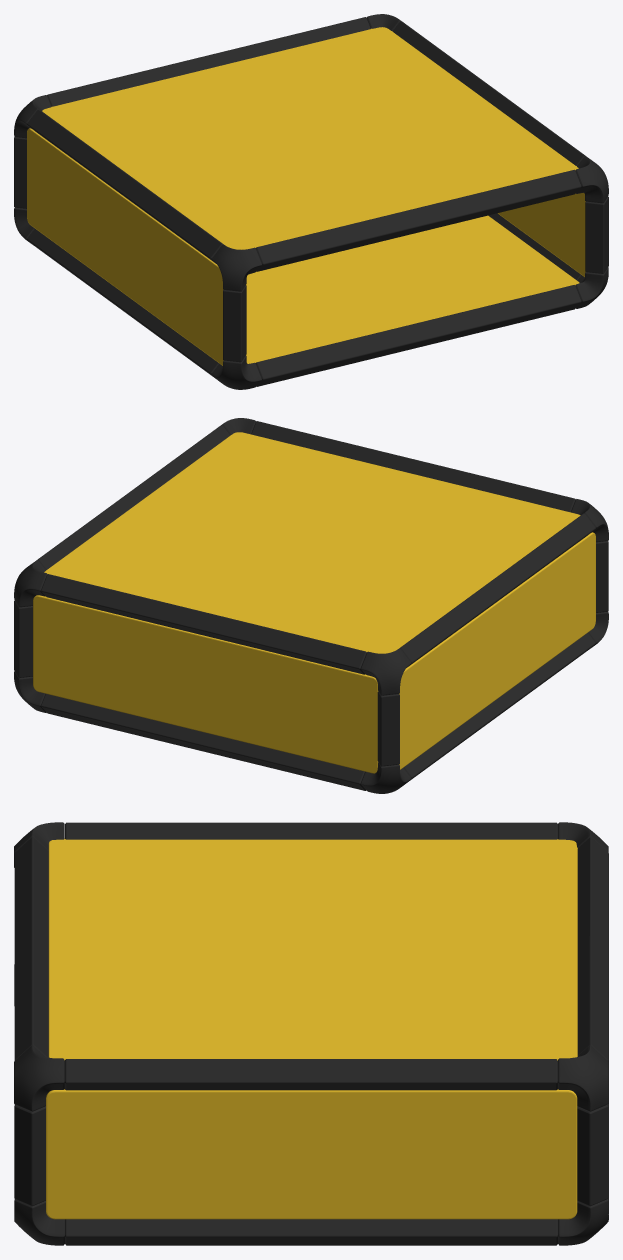
3 views of the same model, one above another, from view 1: azimuth 30°, elevation 25°; view 2: azimuth 150°, elevation 25°; view 3: azimuth 270°, elevation 25° (orthographic). The views are drawn at different scales.
Visible parts, largest first — view 1: 374x374x79; view 2: 374x374x79; view 3: 374x374x79.
Part boxes in pixels (x1,y1,x2,y2): 374x374x79: [14, 14, 608, 389]; 374x374x79: [14, 418, 608, 793]; 374x374x79: [14, 822, 608, 1245].
Size of the model in its own units: 0.4517 by 0.1566 by 0.4513.
